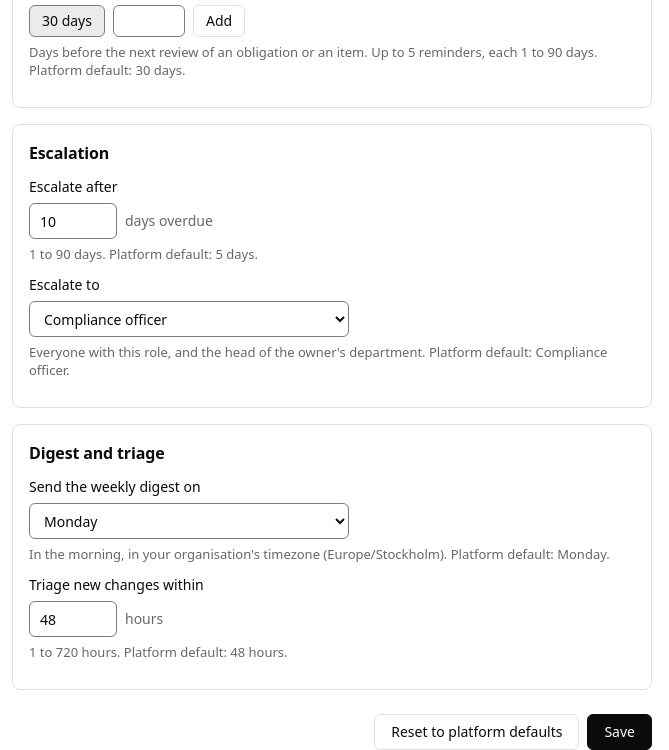
Test case: the workflow policy page › renders an unknown weekday and a refused reminder list under their fields
(page scrolled)
Expected: the number field labelled "Escalate after" is shown, [29,203,117,239]
Step 1. Click the button "Save" → (620, 732), box [587,714,652,749]
(page scrolled)
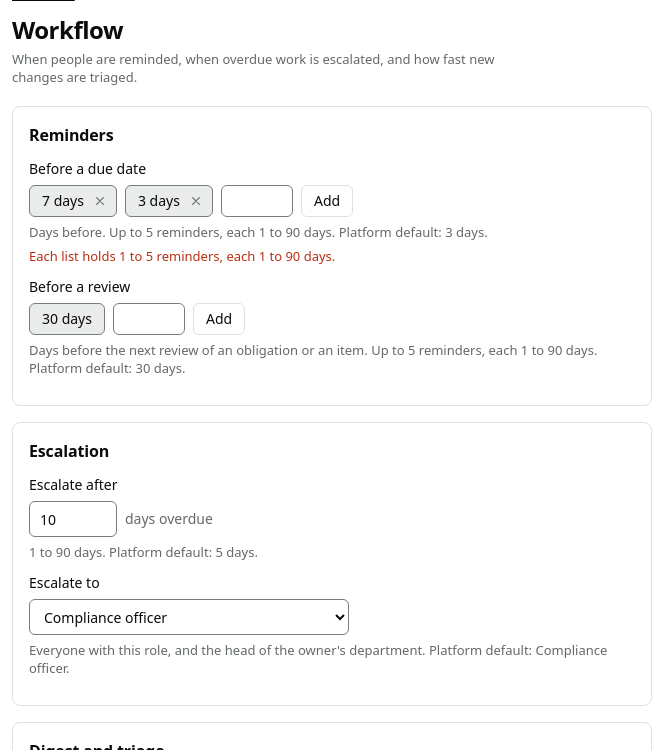
Result: the message reads "Each list holds 1 to 5 reminders, each 1 to 90 days." at [29,247,335,265]
